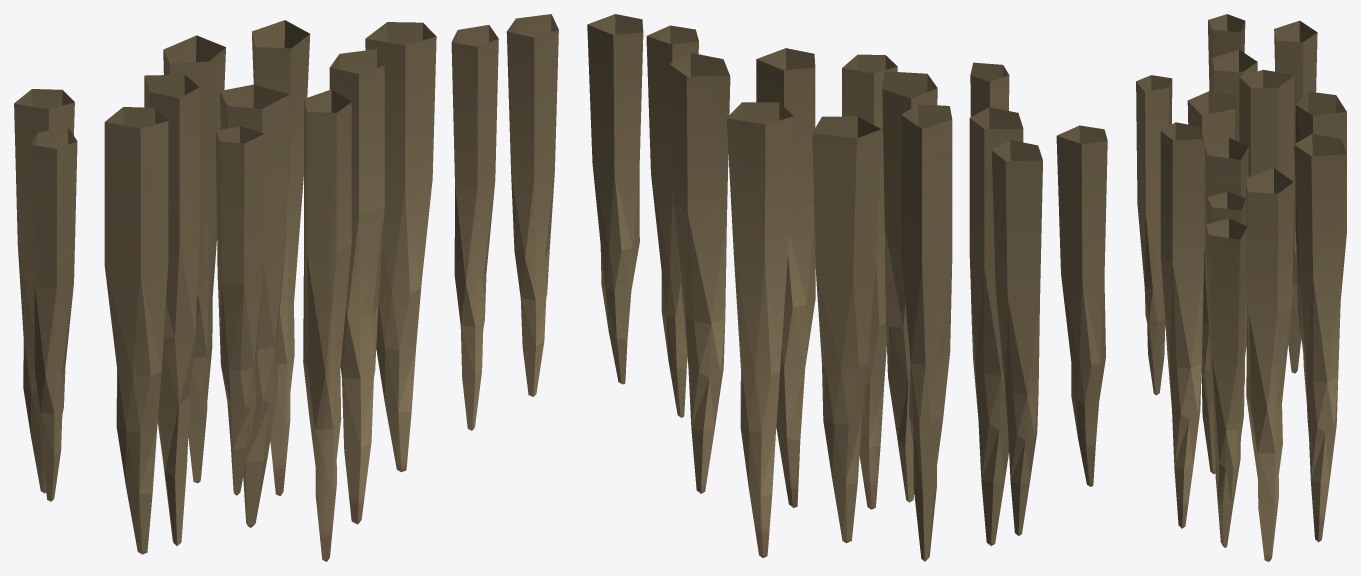
File: stalactiteTrap.fbx
3 views of the same model, side by side, from view 1: azimuth 30°, elevation 25°; view 2: azimuth 150°, elevation 25°; view 3: azimuth 270°, elevation 25° (orthographic). The views are drawn at different scales.
Parts seen in each view (by area): view 1: stalactiteTrap; view 2: stalactiteTrap; view 3: stalactiteTrap.
Part boxes in pixels (x1=…): stalactiteTrap: x1=14, y1=14, x2=558, y2=561; stalactiteTrap: x1=587, y1=14, x2=1107, y2=561; stalactiteTrap: x1=1136, y1=14, x2=1346, y2=561.
Size of the model in its own units: 7.14 by 6.06 by 2.86.
Materials: 1 (1 with a texture image).
